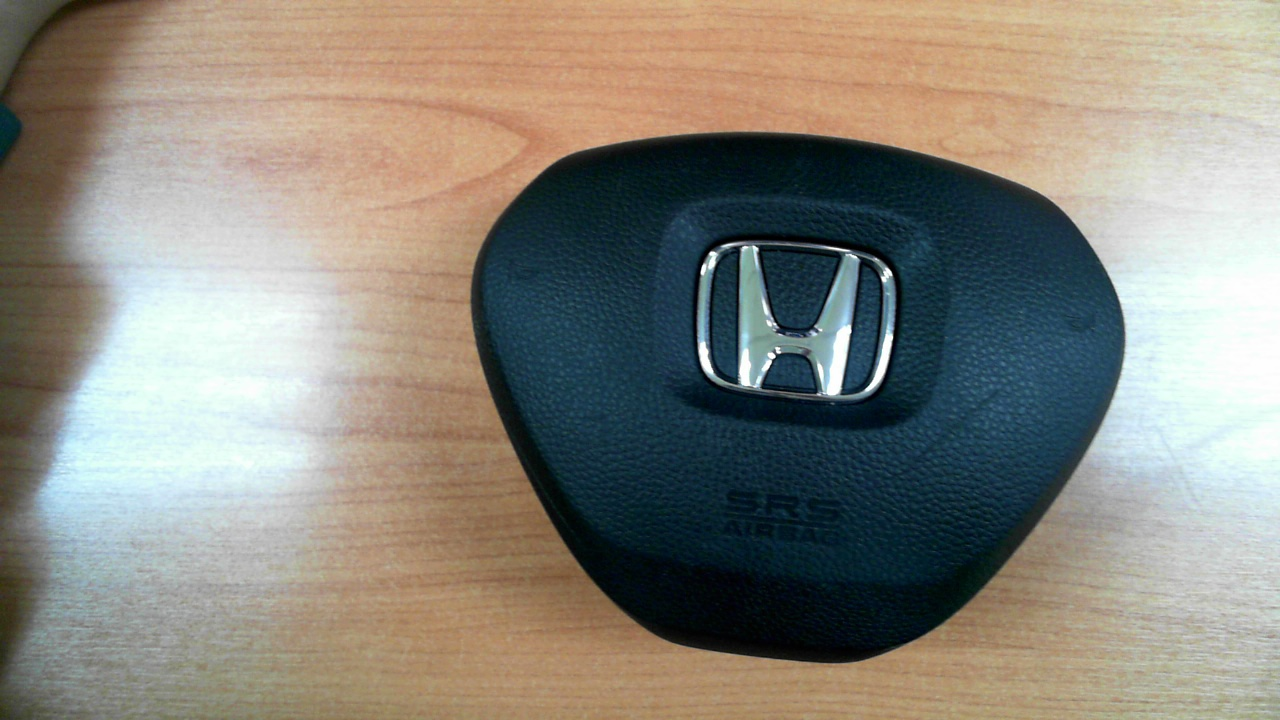Airbag: (470, 132, 1125, 666)
Honda: (696, 244, 896, 396)
